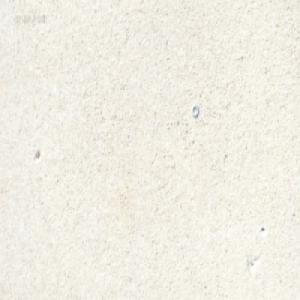Washer: (190, 103, 198, 118)
